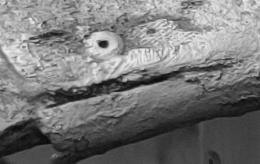crack: (1, 1, 260, 164)
